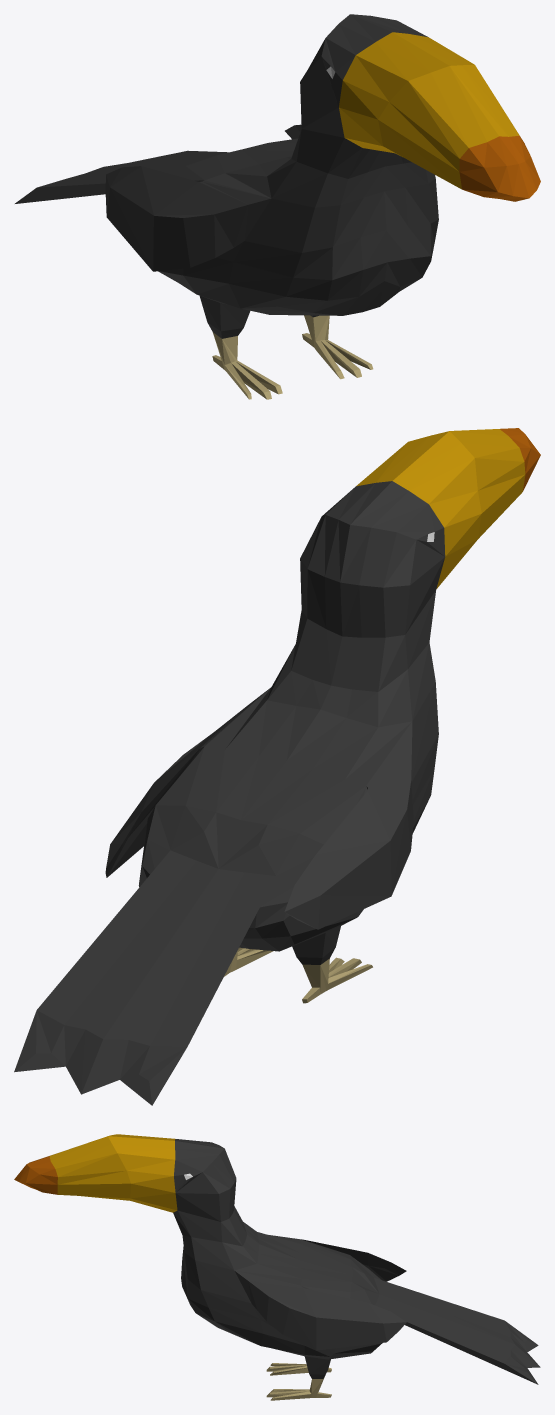
Rendered from FBXtoucanbird.fbx.
3 renders of one model, top to bottom at view 1: azimuth 30°, elevation 25°; view 2: azimuth 150°, elevation 25°; view 3: azimuth 270°, elevation 25°, orthographic. The views are drawn at different scales.
Visible parts, largest first — view 1: polySurface3; view 2: polySurface3; view 3: polySurface3.
Part boxes in pixels (x1,y1,x2,y2): polySurface3: (15, 14, 540, 399); polySurface3: (14, 428, 540, 1105); polySurface3: (14, 1134, 540, 1400).
Size of the model in its own units: 1.19 by 2.02 by 3.87.
